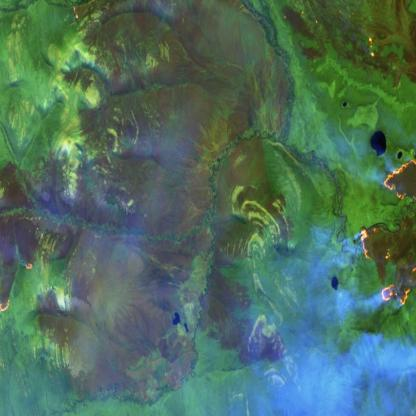fire: (355, 149, 416, 309), (0, 255, 36, 316)
